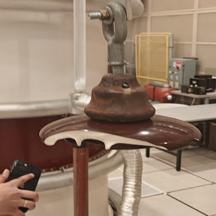insulator: (36, 67, 207, 168)
